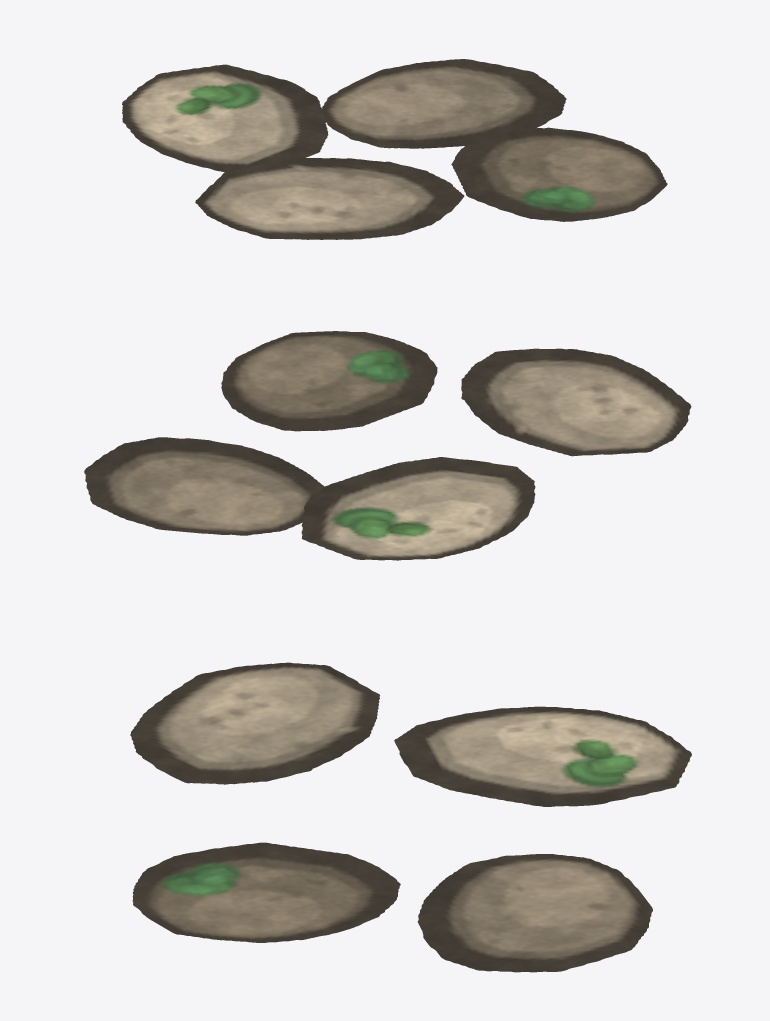
The model's file is pebbles.glb.
3 views of the same model, one above another, from view 1: azimuth 30°, elevation 25°; view 2: azimuth 150°, elevation 25°; view 3: azimuth 270°, elevation 25° (orthographic). The views are drawn at different scales.
Parts seen in each view (by area): view 1: pebbles; view 2: pebbles; view 3: pebbles.
Part boxes in pixels (bbox=[...]): pebbles: bbox=[122, 59, 667, 239]; pebbles: bbox=[84, 331, 691, 560]; pebbles: bbox=[130, 662, 691, 972].
Bounding box in the file's own units: 0.2199 × 0.018 × 0.2063.
1 material, 1 textured.
